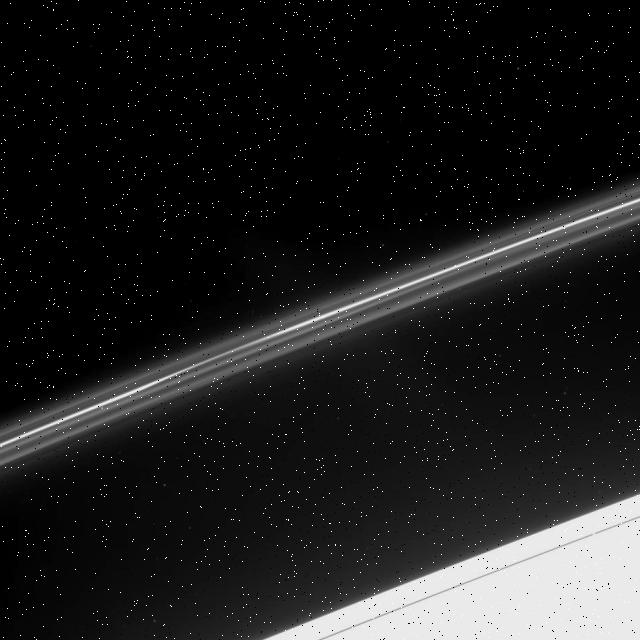Saturn: (0, 170, 640, 640)
